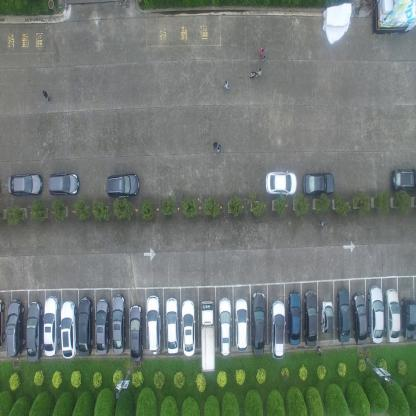car: (198, 301, 214, 375), (6, 297, 25, 358), (60, 300, 78, 360), (367, 284, 384, 344), (43, 294, 59, 357), (250, 291, 265, 357), (26, 300, 42, 361), (270, 301, 286, 361), (146, 294, 162, 354), (384, 288, 401, 343), (78, 295, 93, 357), (111, 293, 126, 354), (7, 172, 43, 197), (181, 298, 196, 357), (351, 291, 367, 346), (129, 304, 144, 362), (265, 170, 298, 196), (304, 288, 318, 349), (303, 172, 337, 197), (218, 298, 232, 358), (95, 296, 109, 356), (47, 171, 80, 196), (106, 173, 140, 197), (165, 297, 179, 354), (336, 286, 350, 343), (288, 291, 301, 346), (400, 297, 416, 341), (235, 299, 248, 352), (392, 166, 415, 192), (321, 299, 334, 335), (0, 298, 5, 347)
